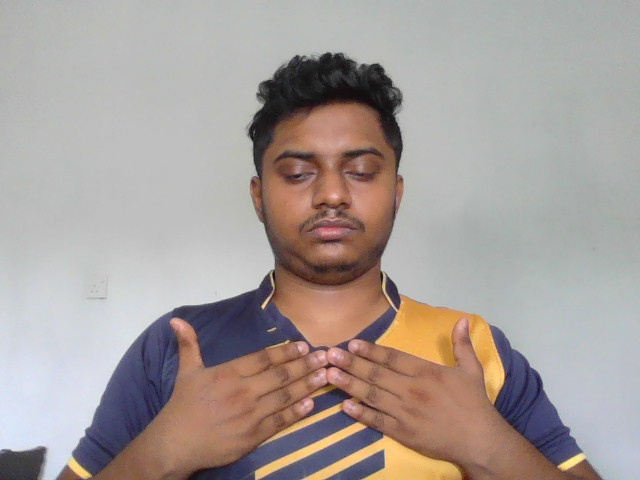Thank You: (160, 310, 505, 467)
